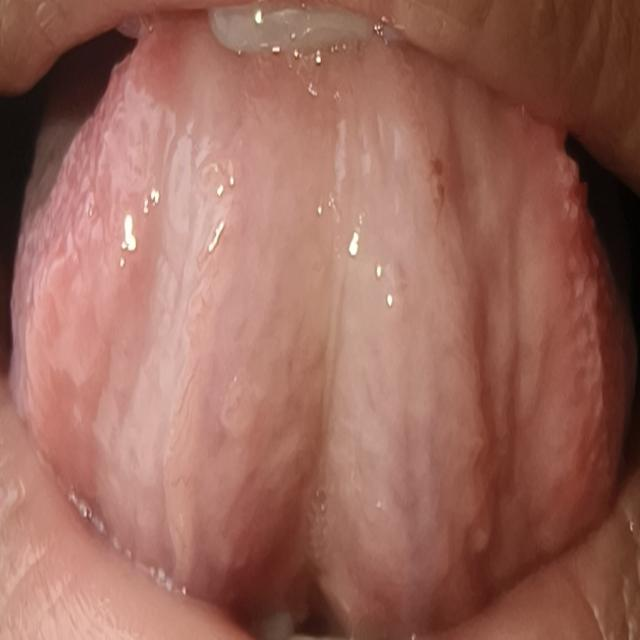processing_area: (5, 0, 633, 635)
